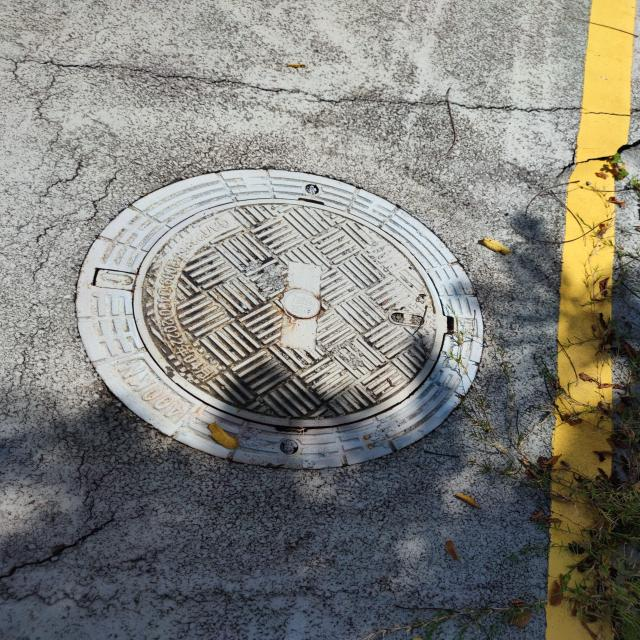Good: (71, 162, 494, 480)
